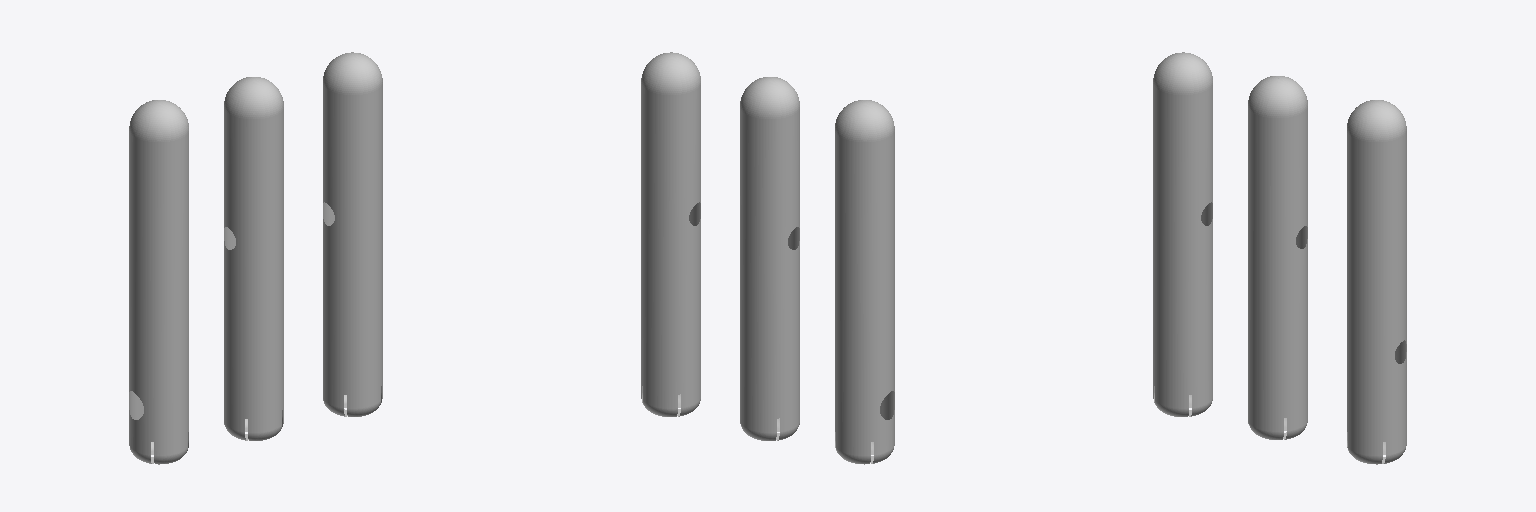
The model's file is dryer_adsorbers.obj.
3 renders of one model, left to right at view 1: azimuth 30°, elevation 25°; view 2: azimuth 150°, elevation 25°; view 3: azimuth 330°, elevation 25°, orthographic.
Parts seen in each view (by area): view 1: obj1; view 2: obj1; view 3: obj1.
Boxes of the visible parts, x1=… form: obj1: x1=129, y1=52, x2=382, y2=464; obj1: x1=641, y1=52, x2=894, y2=464; obj1: x1=1153, y1=52, x2=1406, y2=464.
Bounding box in the file's own units: 9.43 × 13 × 2.